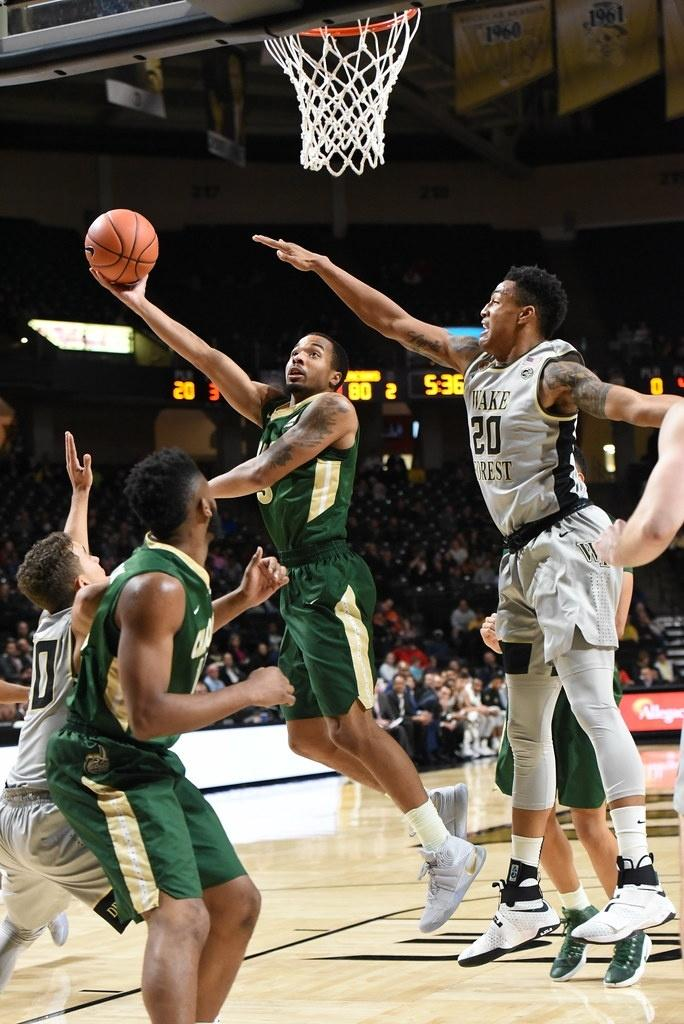basketball-player: (250, 231, 682, 983), (107, 262, 488, 930), (104, 412, 302, 1024), (0, 482, 172, 1021)
